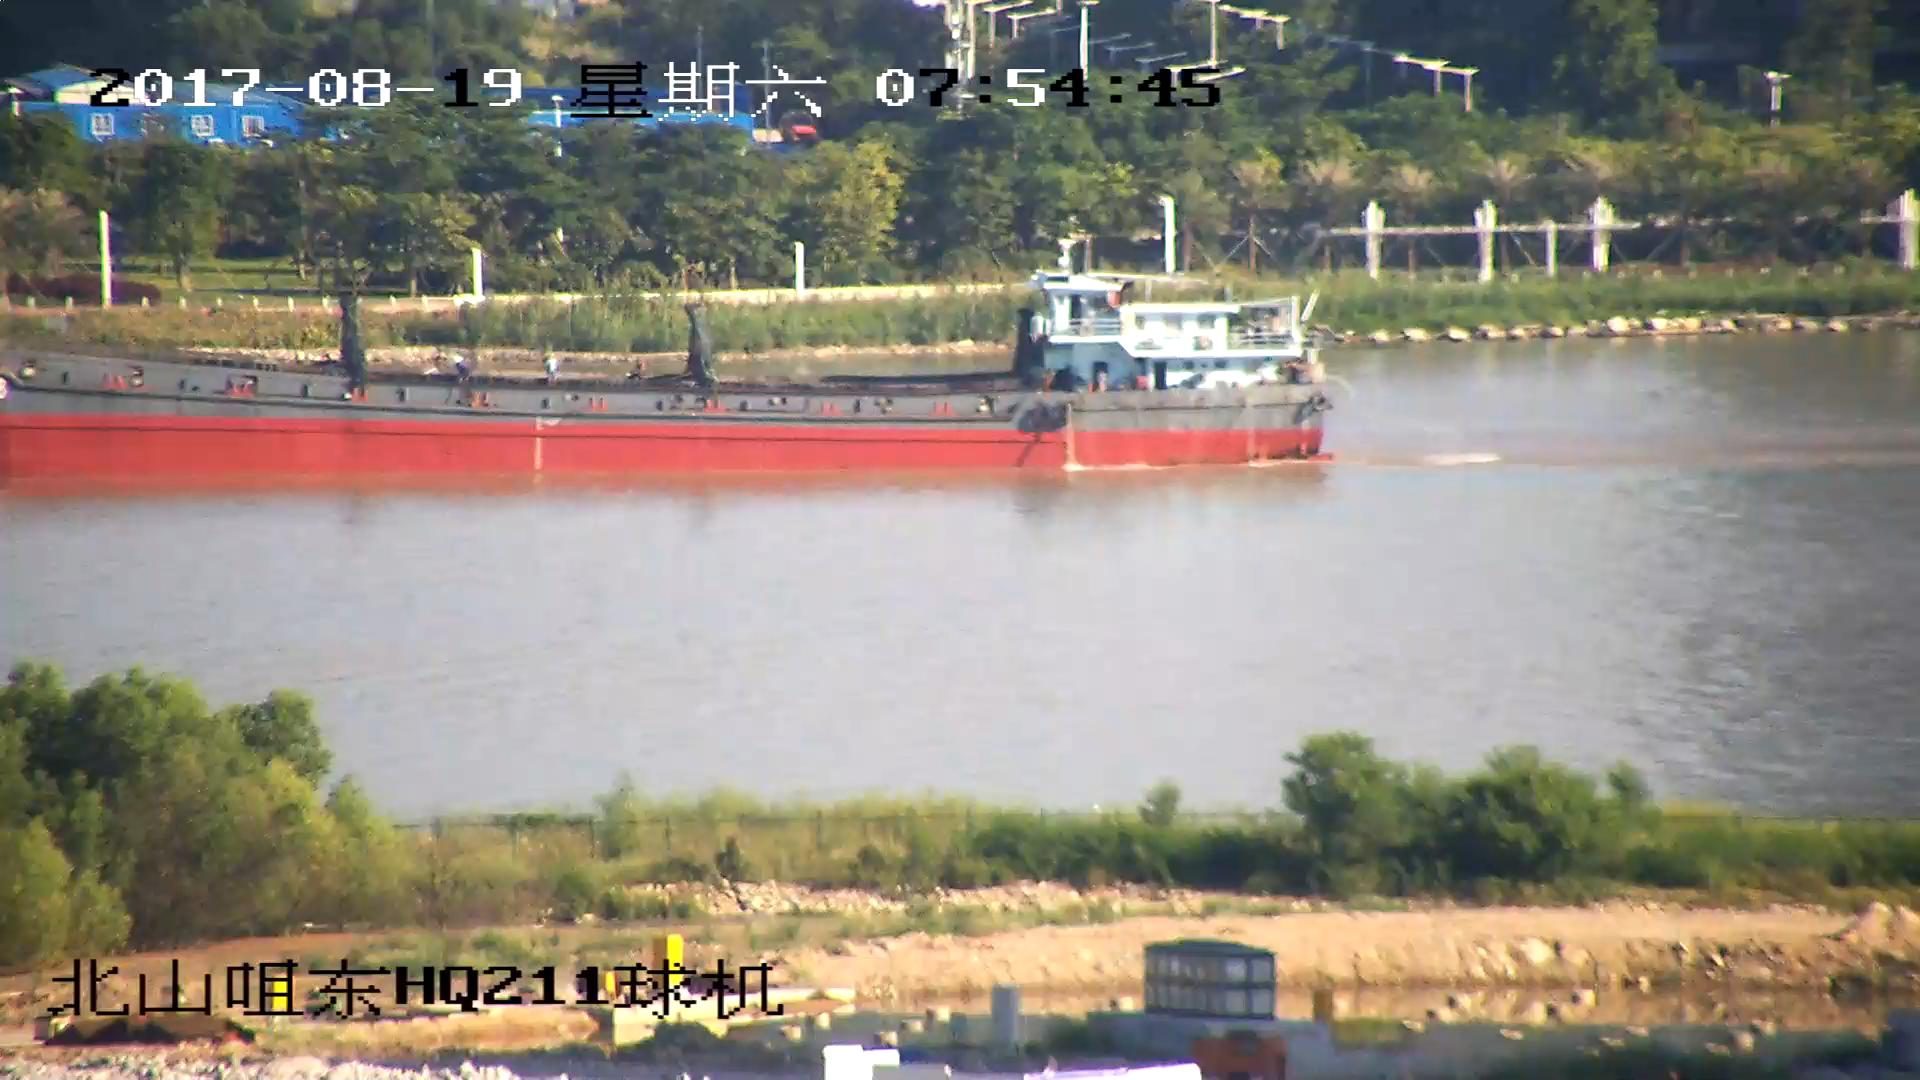bulk cargo carrier: (1, 257, 1339, 483)
